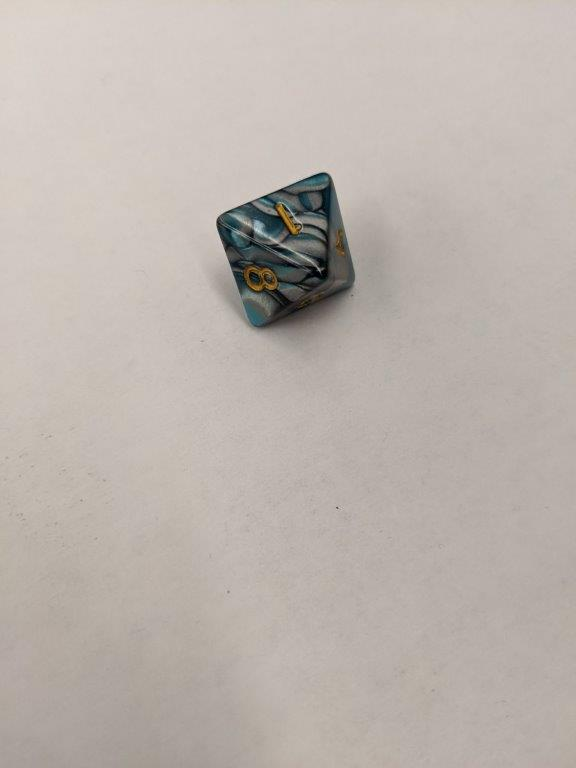d8-1: (218, 167, 356, 333)
